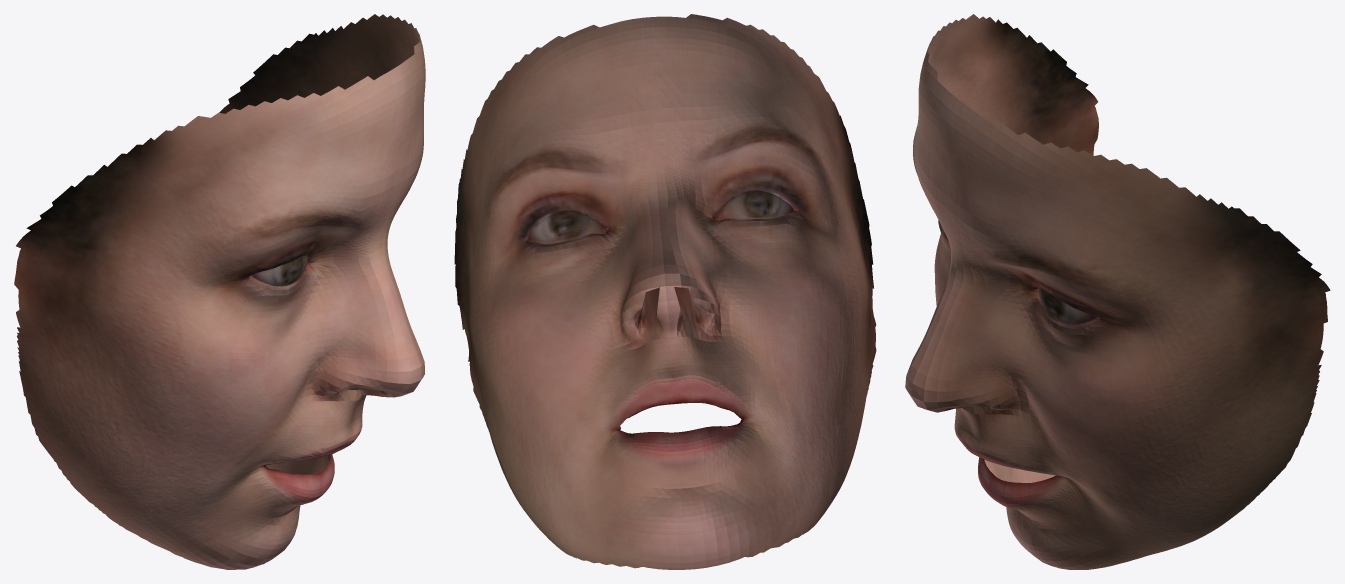
Rendered from frame_927_mesh.obj.
The picture shows the model from 3 angles, left to right: view 1: azimuth 30°, elevation 25°; view 2: azimuth 150°, elevation 25°; view 3: azimuth 270°, elevation 25°; orthographic projection. The views are drawn at different scales.
Bounding box in the file's own units: 1.36 × 1.71 × 1.27.
